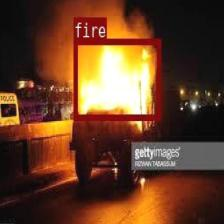fire: (73, 37, 160, 120)
